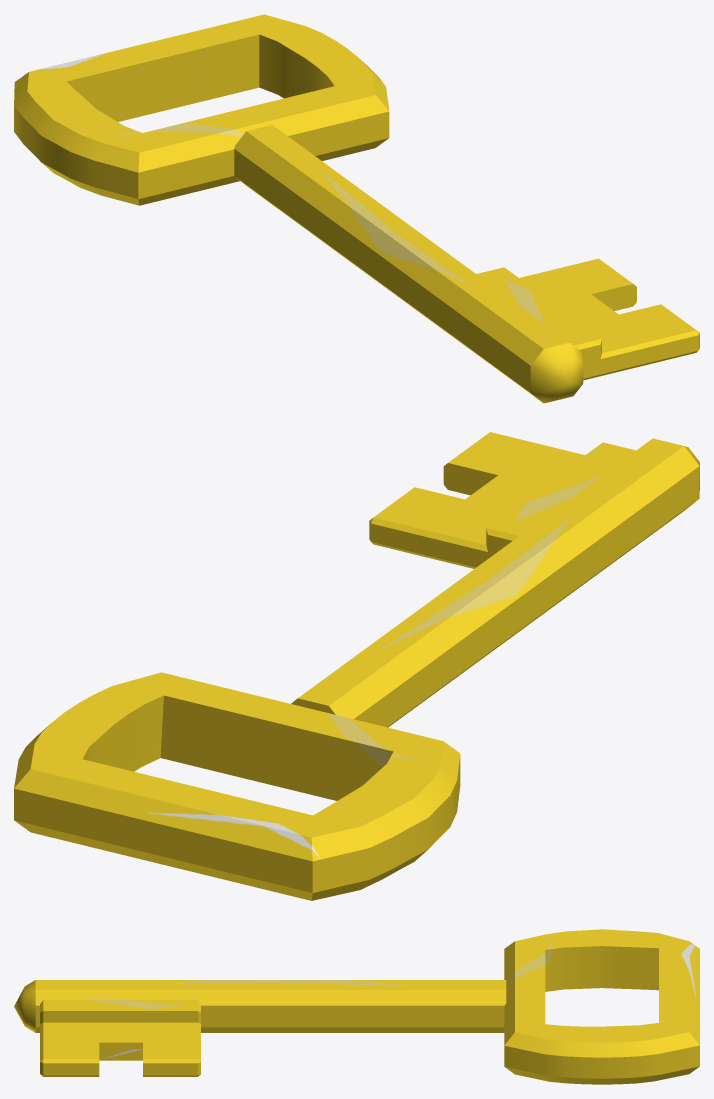
Rendered from chia.fbx.
3 views of the same model, one above another, from view 1: azimuth 30°, elevation 25°; view 2: azimuth 150°, elevation 25°; view 3: azimuth 270°, elevation 25° (orthographic). The views are drawn at different scales.
Visible parts, largest first — view 1: pCube8; view 2: pCube8; view 3: pCube8.
Boxes of the visible parts, x1=… form: pCube8: x1=14, y1=14, x2=699, y2=403; pCube8: x1=14, y1=432, x2=699, y2=900; pCube8: x1=14, y1=929, x2=699, y2=1084.
Bounding box in the file's own units: 1.51 × 0.2475 × 3.56.
1 material, 1 textured.
